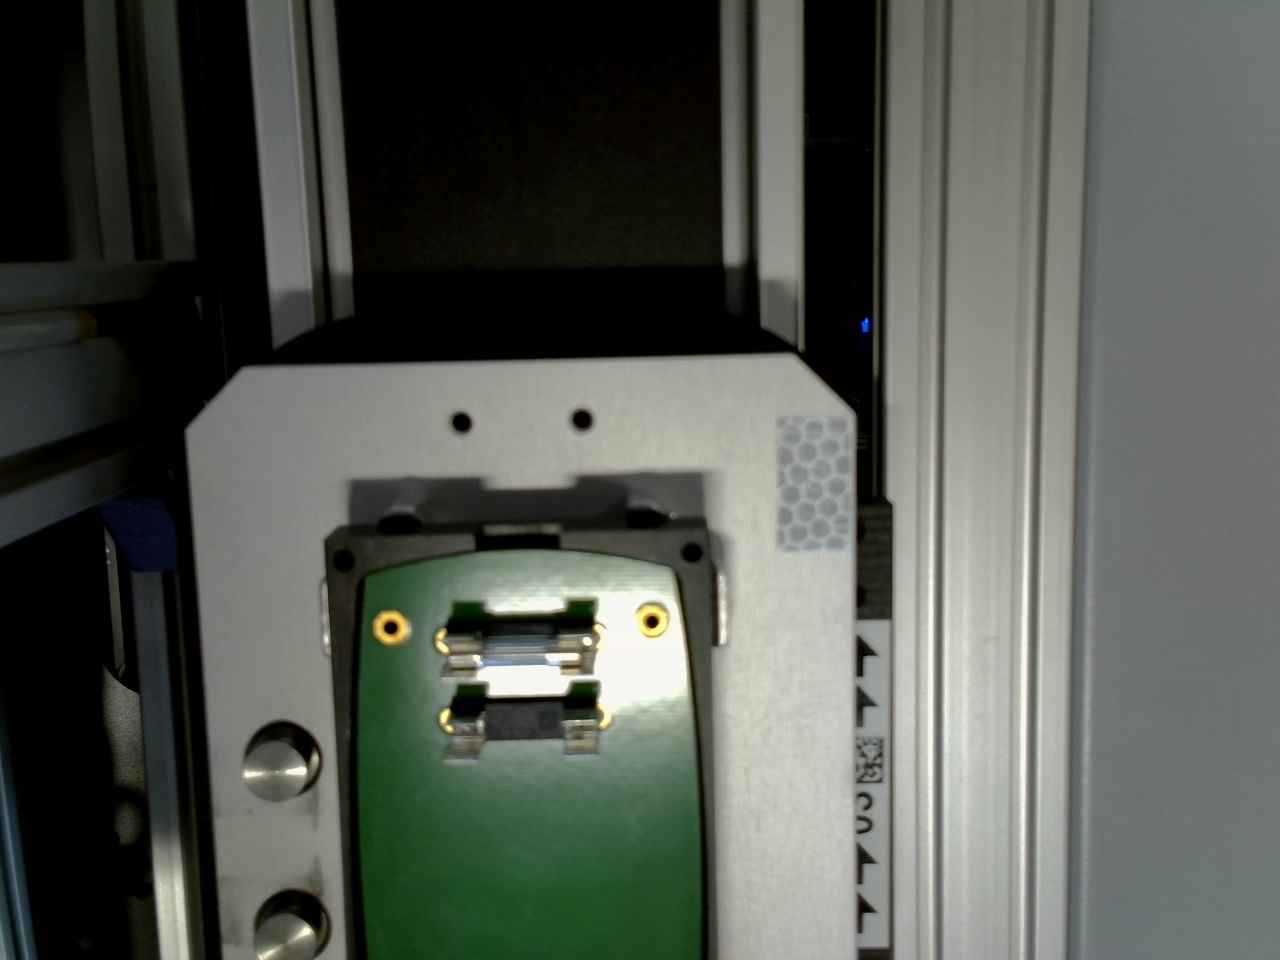Onefuse: (444, 633, 587, 673)
